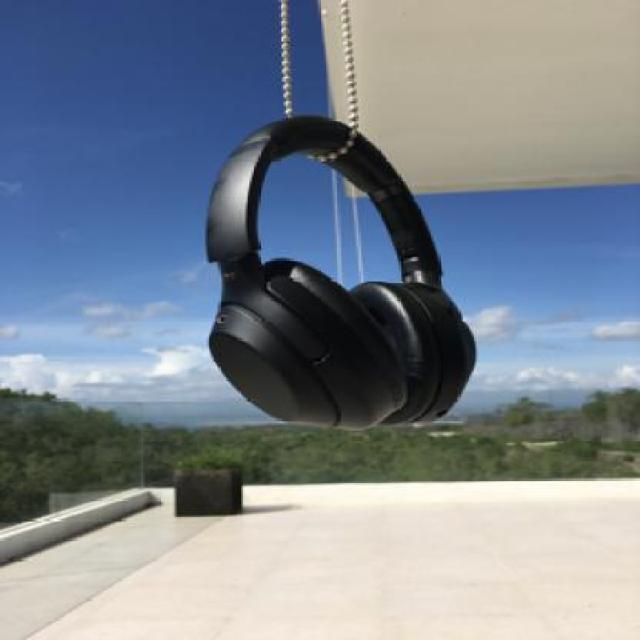earphone: (203, 100, 490, 473)
